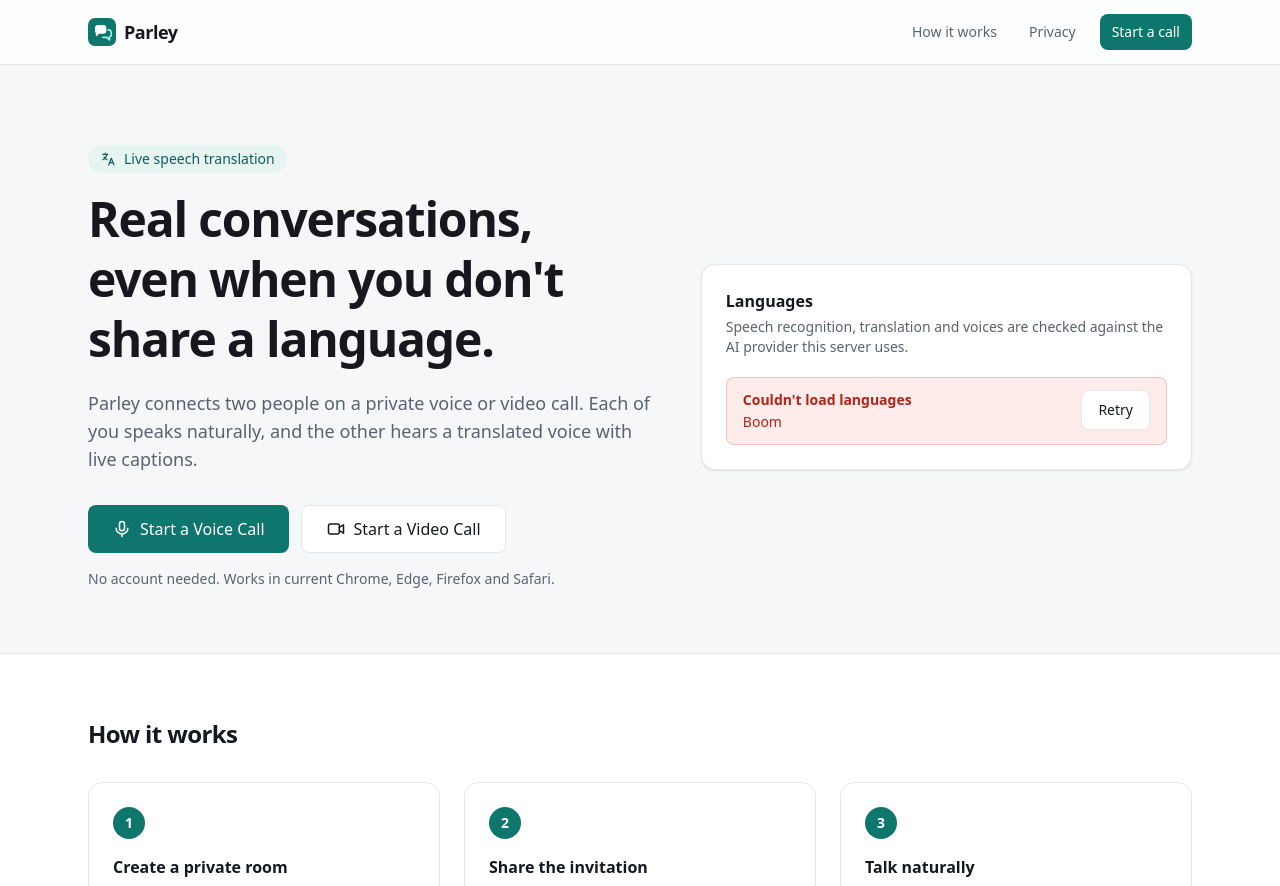
Test case: HomePage › offers a retry when languages fail to load
Click the button "Retry" at (1116, 410), box [1081,390,1150,430]
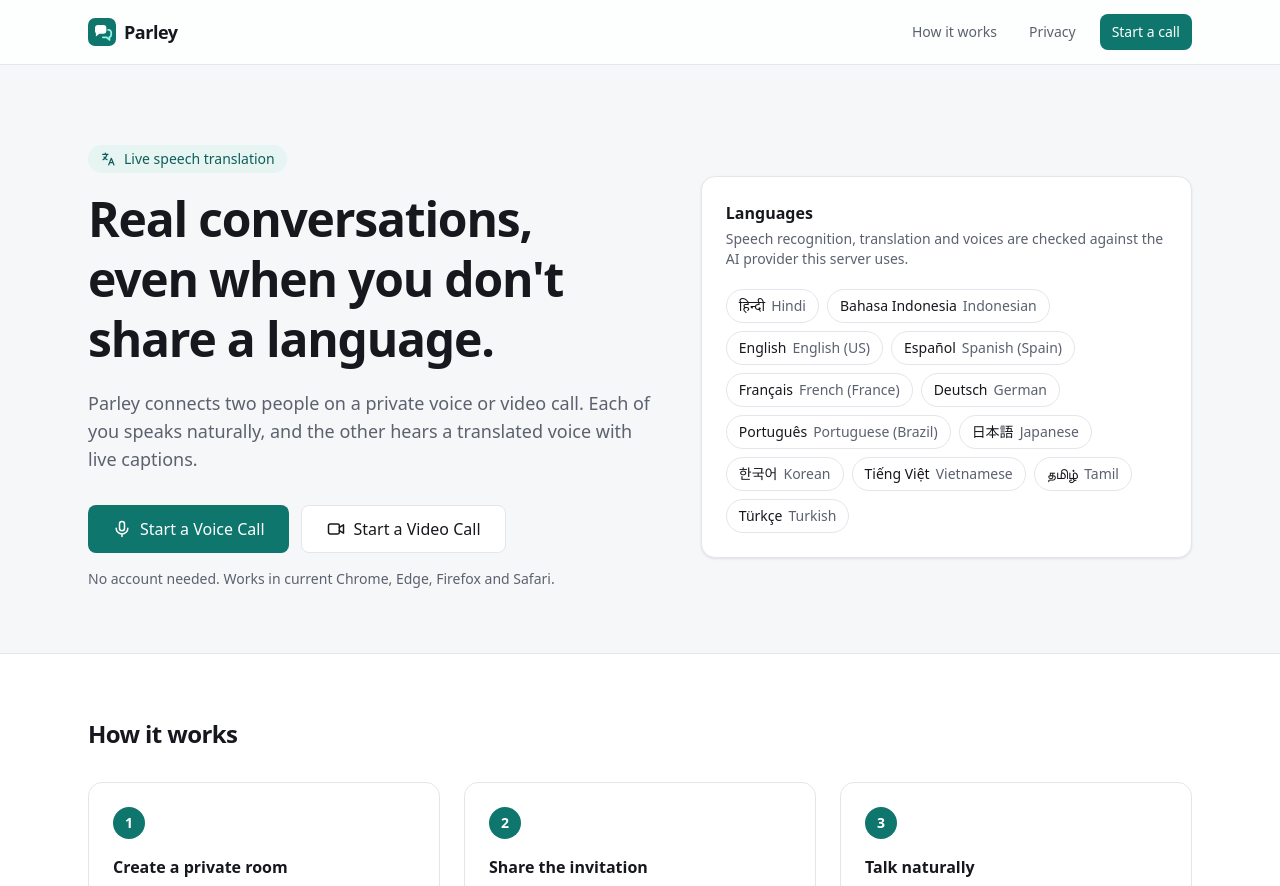
Now the list named "Supported languages" is shown, box [726,289,1167,533]
